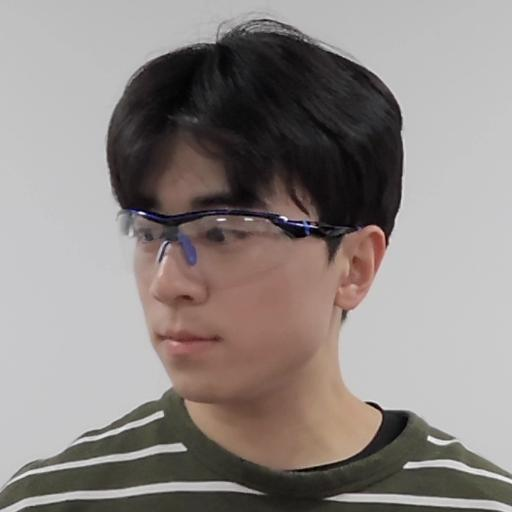glasses: (87, 11, 416, 383)
